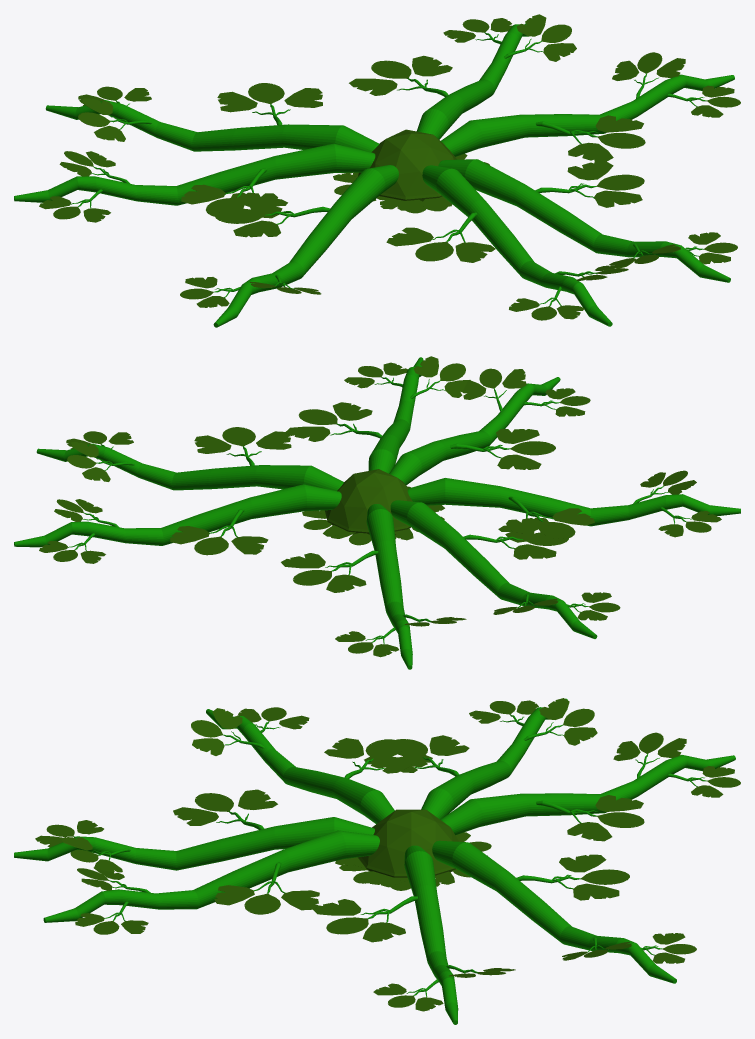
The model's file is poison_oak_FINALIHOPE.fbx.
3 renders of one model, top to bottom at view 1: azimuth 30°, elevation 25°; view 2: azimuth 150°, elevation 25°; view 3: azimuth 270°, elevation 25°, orthographic. The views are drawn at different scales.
Parts seen in each view (by area): view 1: p_oak.final; view 2: p_oak.final; view 3: p_oak.final.
Part boxes in pixels (x1,y1,x2,y2): p_oak.final: (14, 14, 740, 327); p_oak.final: (14, 356, 740, 669); p_oak.final: (14, 698, 740, 1024).
Bounding box in the file's own units: 302 × 25.61 × 288.
